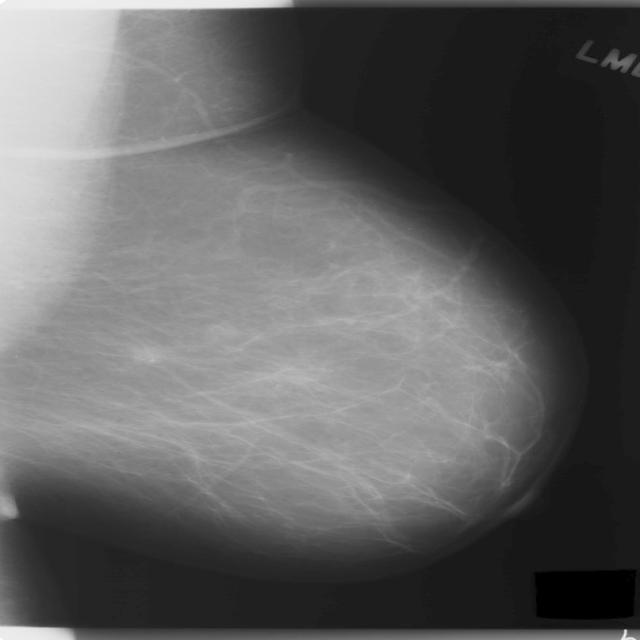tumour: (127, 344, 160, 364)
